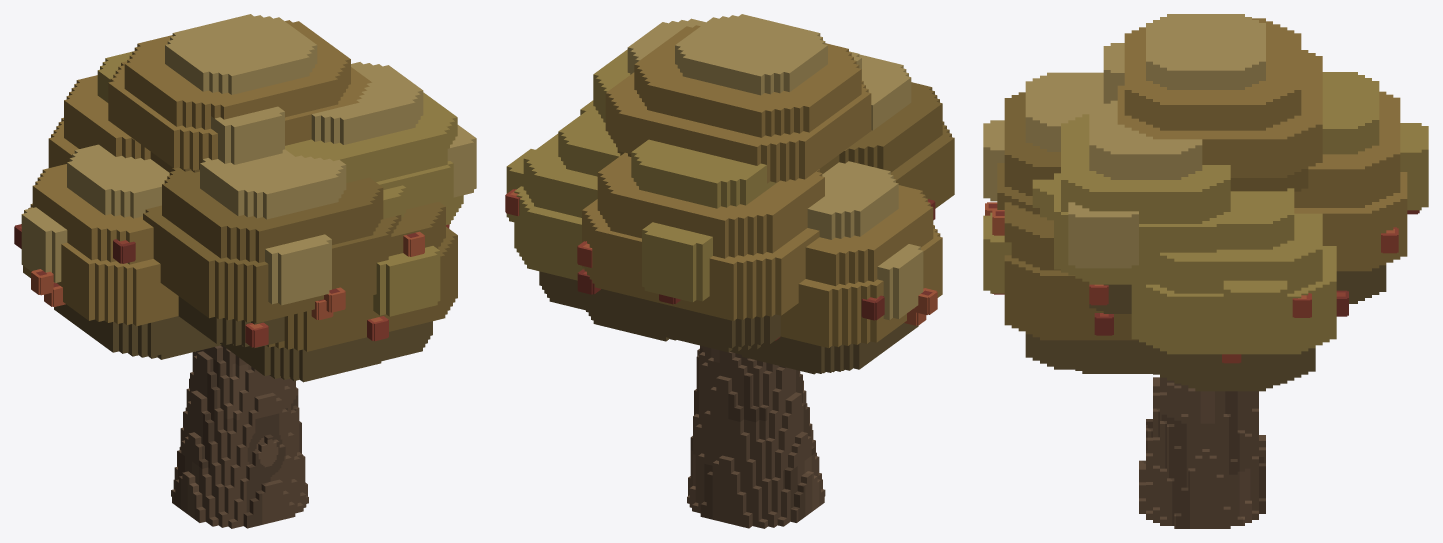
The model's file is apple_ancient_autumn_fruiting_3.glb.
The picture shows the model from 3 angles, left to right: view 1: azimuth 30°, elevation 25°; view 2: azimuth 150°, elevation 25°; view 3: azimuth 270°, elevation 25°; orthographic projection.
Parts seen in each view (by area): view 1: VoxelVisual; view 2: VoxelVisual; view 3: VoxelVisual.
Part boxes in pixels (x1,y1,x2,y2): VoxelVisual: (14,14,476,528); VoxelVisual: (505,14,954,528); VoxelVisual: (983,14,1428,528).
Size of what is drawn, in the model's own units: 16.69 by 18 by 15.75.
